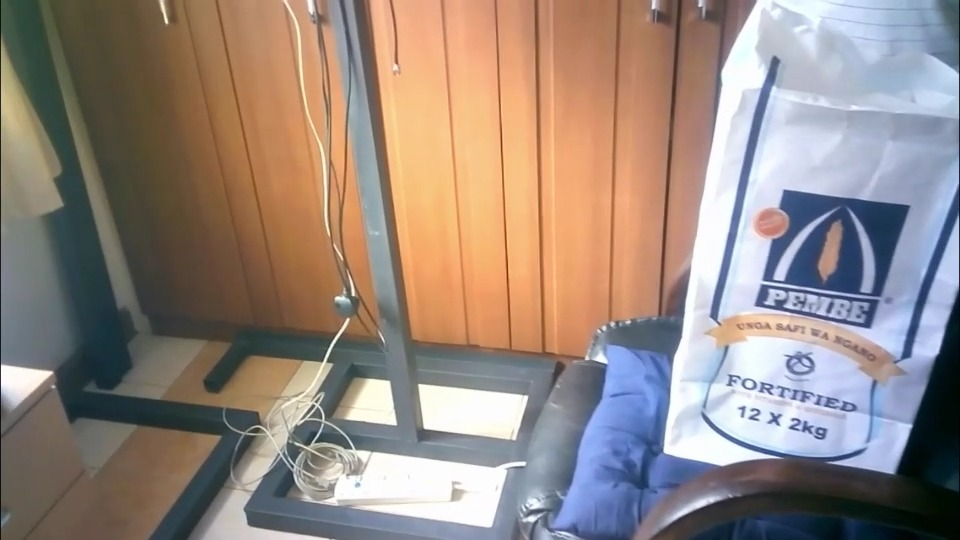wheat_flour_blue_label: (664, 2, 937, 474)
